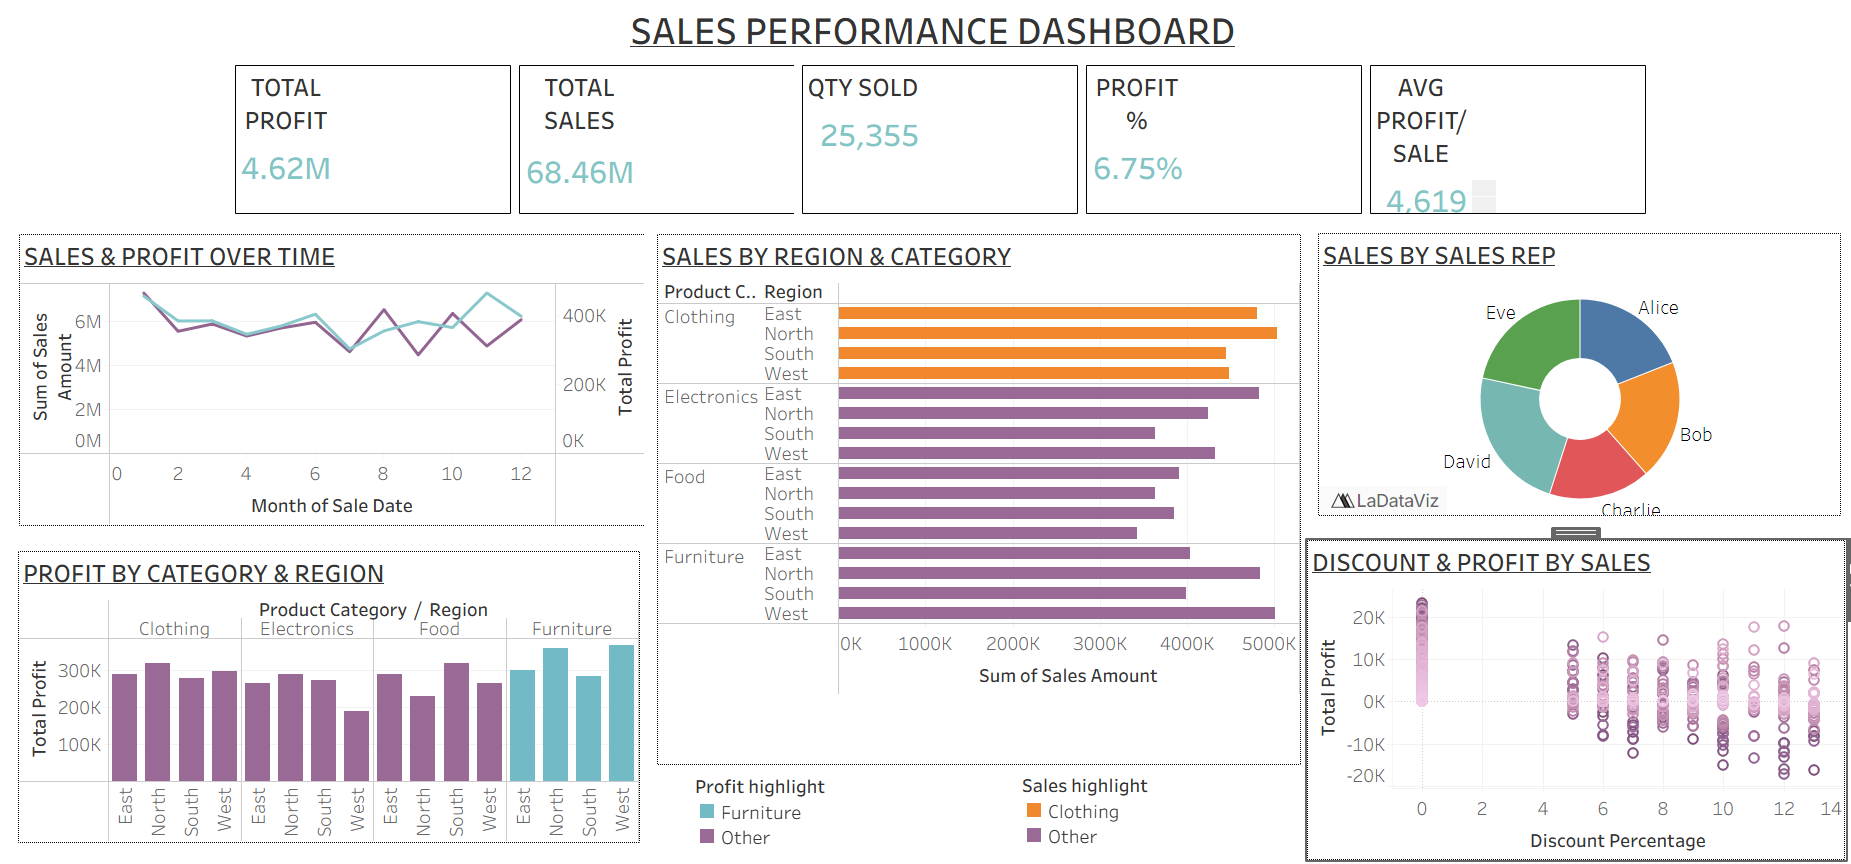

The dashboard page shown, as its layout file describes it:
{"tool":"tableau","page":{"name":"Dashboard 1","canvas":[1000,1000],"units":"permille","ordinal":0},"visuals":[{"type":"title","box":[4.8,9.1,990.4,66.1]},{"type":"worksheet","title":"TOTAL PROFIT","mark":"Automatic","box":[126.8,77.5,150.8,178.8]},{"type":"worksheet","title":"TOTAL SALES","mark":"Automatic","box":[277.6,77.5,150.8,178.8]},{"type":"worksheet","title":"QTY SOLD","mark":"Automatic","box":[428.5,77.5,150.8,178.8]},{"type":"worksheet","title":"PROFIT %","mark":"Automatic","box":[579.3,77.5,150.8,178.8]},{"type":"worksheet","title":"AVG PROFIT/SALE","mark":"Automatic","box":[730.2,77.5,150.8,178.8]},{"type":"worksheet","title":"Sales by sales rep","mark":"VizExtension","box":[704.8,273.4,277.9,322.3]},{"type":"worksheet","title":"Sales over Time","mark":"Automatic","rows":["Sales_Amount","Total_Profit"],"cols":["Sale_Date"],"box":[14.2,274.5,332.9,332.6]},{"type":"worksheet","title":"SALES by region/category","mark":"Bar","rows":["Product_Category","Region"],"cols":["Sales_Amount"],"box":[353.4,274.5,341.9,604.8]},{"type":"worksheet","title":"Discount & profit by sales","mark":"Automatic","rows":["Total_Profit"],"cols":["Discount_Percentage"],"box":[698.9,623,286.1,364.5]},{"type":"worksheet","title":"Profit by category/region","mark":"Automatic","rows":["Total_Profit"],"cols":["Product_Category","Region"],"box":[13.8,635.5,330.5,332.6]},{"type":"legend","title":"SALES by region/category","param":"[federated.0sdskb70279awm17cble90pnrgra].[none:Calculation_0143272067407875:nk]","box":[547.5,887.2,137.6,86.6]},{"type":"legend","title":"Profit by category/region","param":"[federated.0sdskb70279awm17cble90pnrgra].[none:Calculation_0143272066850818:nk]","box":[373.8,888.4,104,92.3]}]}

Visuals, with their boxes on the dashboard's canvas, which has no fixed pixel size, in thousandths of its width and height (x1, y1, x2, y2). These are canvas units, not pixel positions in the 1851x864 screenshot, which may show the page scaled, cropped or inside an application window:
title: BBox(5, 9, 995, 75)
"TOTAL PROFIT" worksheet: BBox(127, 78, 278, 256)
"TOTAL SALES" worksheet: BBox(278, 78, 428, 256)
"QTY SOLD" worksheet: BBox(428, 78, 579, 256)
"PROFIT %" worksheet: BBox(579, 78, 730, 256)
"AVG PROFIT/SALE" worksheet: BBox(730, 78, 881, 256)
"Sales by sales rep" worksheet (VizExtension marks): BBox(705, 273, 983, 596)
"Sales over Time" worksheet: BBox(14, 274, 347, 607)
"SALES by region/category" worksheet (Bar marks): BBox(353, 274, 695, 879)
"Discount & profit by sales" worksheet: BBox(699, 623, 985, 988)
"Profit by category/region" worksheet: BBox(14, 636, 344, 968)
"SALES by region/category" legend: BBox(548, 887, 685, 974)
"Profit by category/region" legend: BBox(374, 888, 478, 981)
